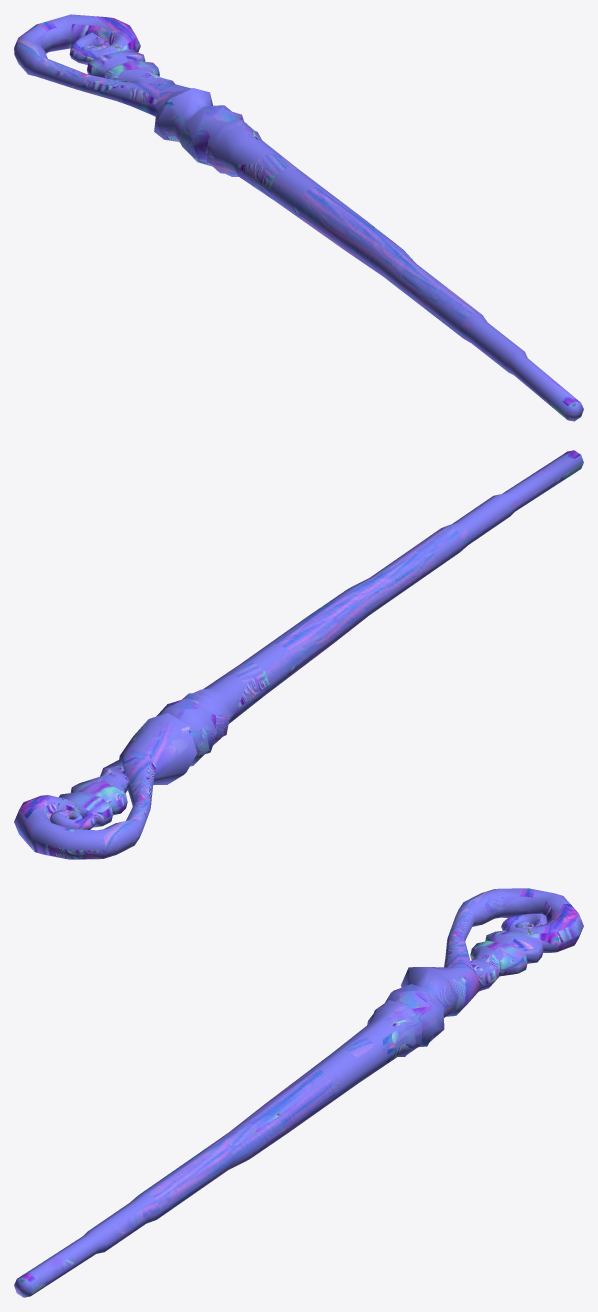
Rendered from Magic_Wand.glb.
3 views of the same model, one above another, from view 1: azimuth 30°, elevation 25°; view 2: azimuth 150°, elevation 25°; view 3: azimuth 330°, elevation 25° (orthographic).
Visible parts, largest first — view 1: Magic_Wand; view 2: Magic_Wand; view 3: Magic_Wand.
Part boxes in pixels (x1,y1,x2,y2): Magic_Wand: [14, 14, 583, 421]; Magic_Wand: [14, 450, 583, 859]; Magic_Wand: [14, 888, 583, 1297].
Bounding box in the file's own units: 0.9077 × 0.4797 × 7.23.
Materials: 1 (1 with a texture image).
